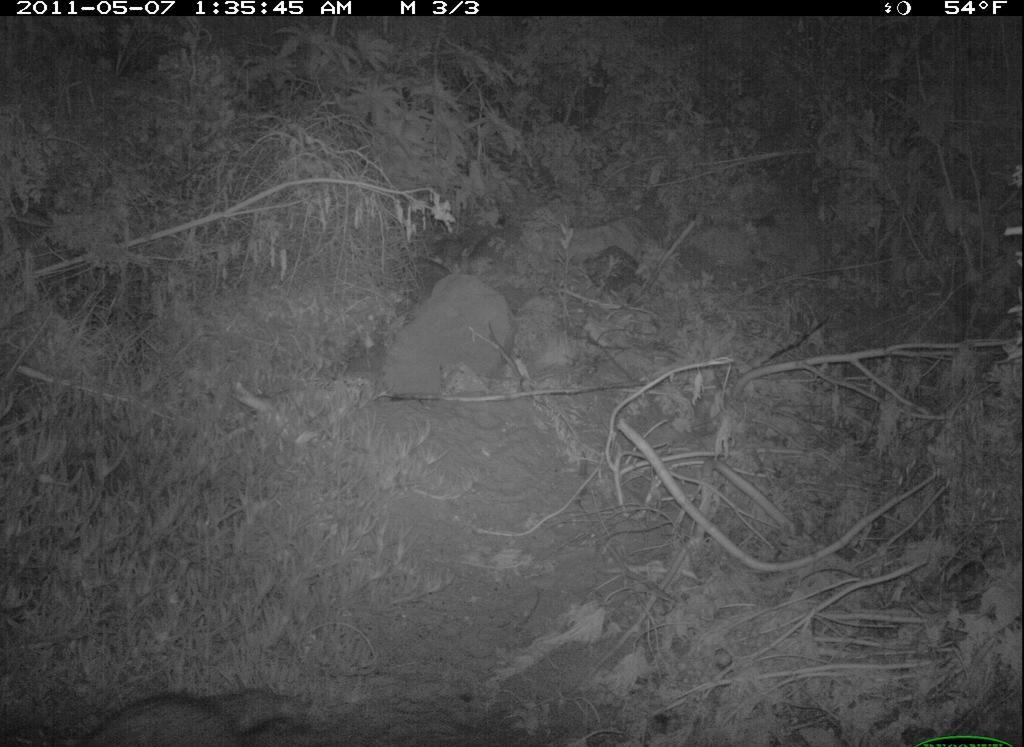raccoon: (77, 680, 310, 747)
